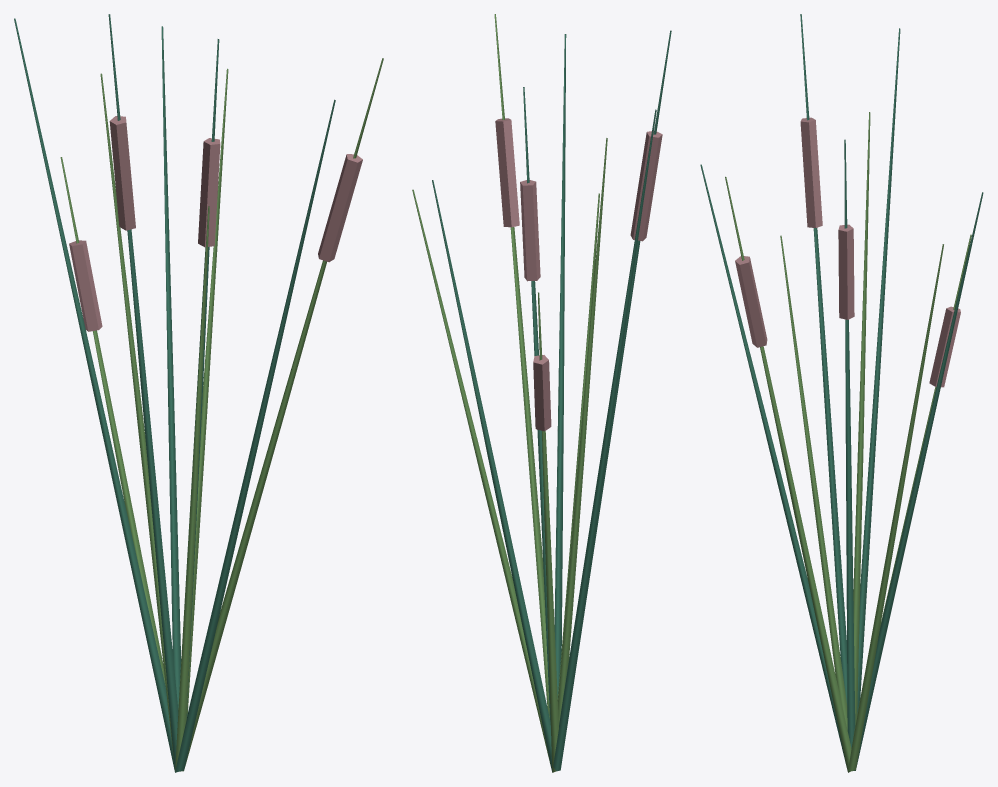
File: reed.glb
3 renders of one model, left to right at view 1: azimuth 30°, elevation 25°; view 2: azimuth 150°, elevation 25°; view 3: azimuth 270°, elevation 25°, orthographic. The views are drawn at different scales.
Visible parts, largest first — view 1: reed; view 2: reed; view 3: reed.
Boxes of the visible parts, x1,y1,x2,y2 form: reed: [14, 14, 383, 772]; reed: [412, 14, 671, 772]; reed: [700, 14, 983, 772].
Size of what is drawn, in the model's own units: 0.6406 by 1.8 by 0.6461.
